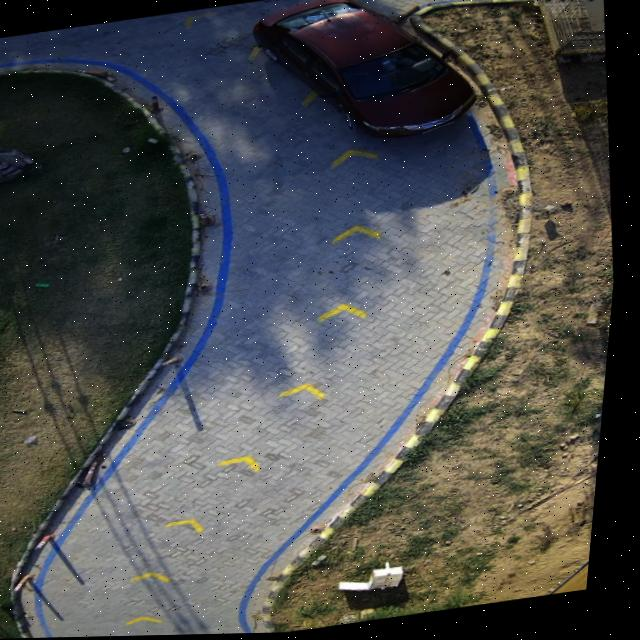car: (255, 0, 482, 138)
